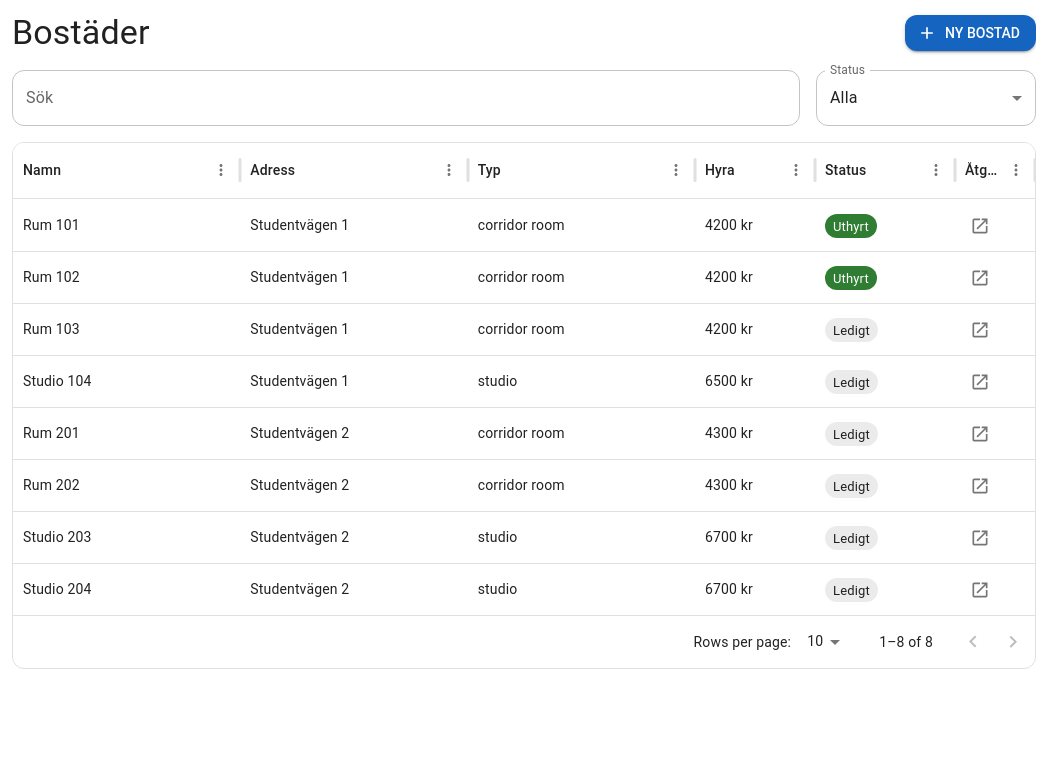
Test: PropertiesPage › filters by status
Expected: the text "Rum 101" is shown, [23, 217, 80, 233]
Click the dropdown named "status" at {"x": 844, "y": 98}, box [830, 88, 858, 108]
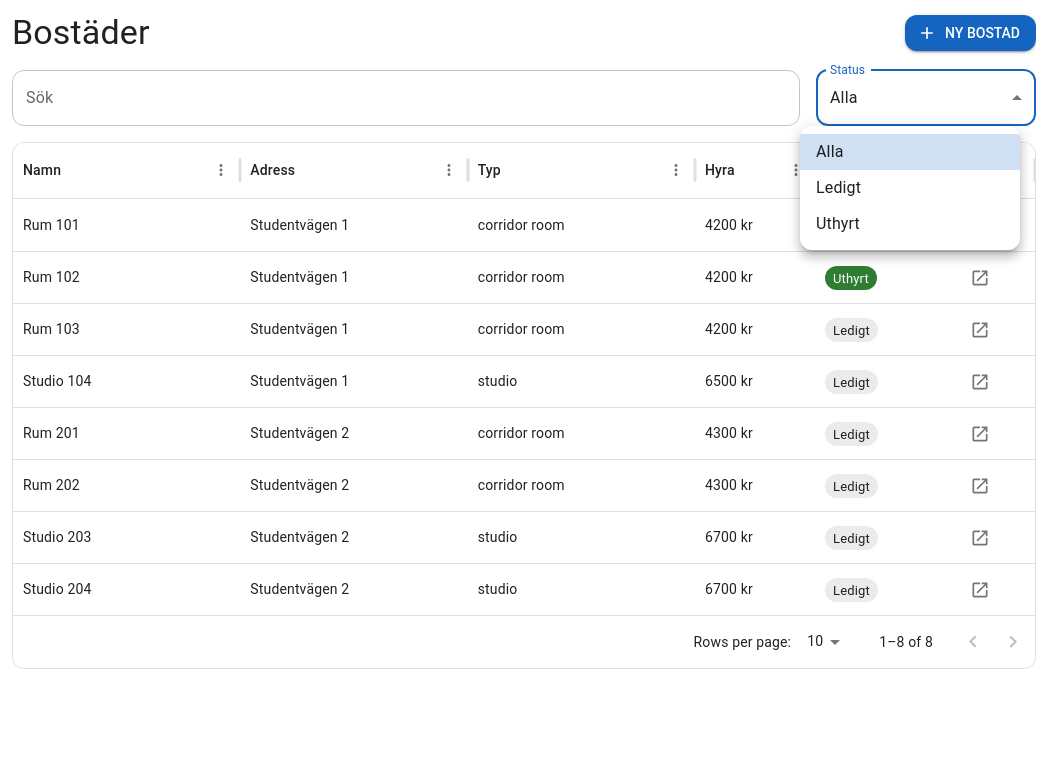
Click the option "Uthyrt" at {"x": 838, "y": 224}, box [816, 214, 860, 233]
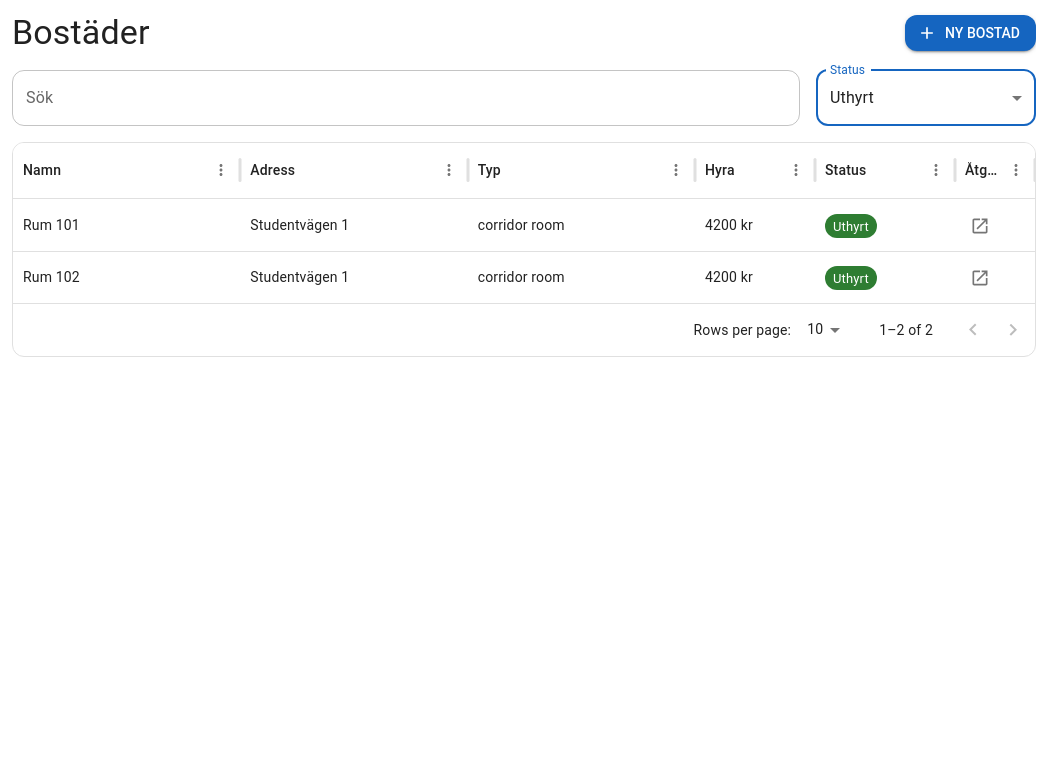
Expected: the text "Rum 101" is shown, [23, 217, 80, 233]
Result: the text "Rum 103" is gone
